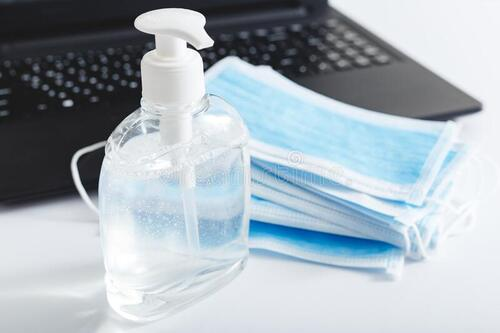sanitizer: (99, 6, 252, 302)
